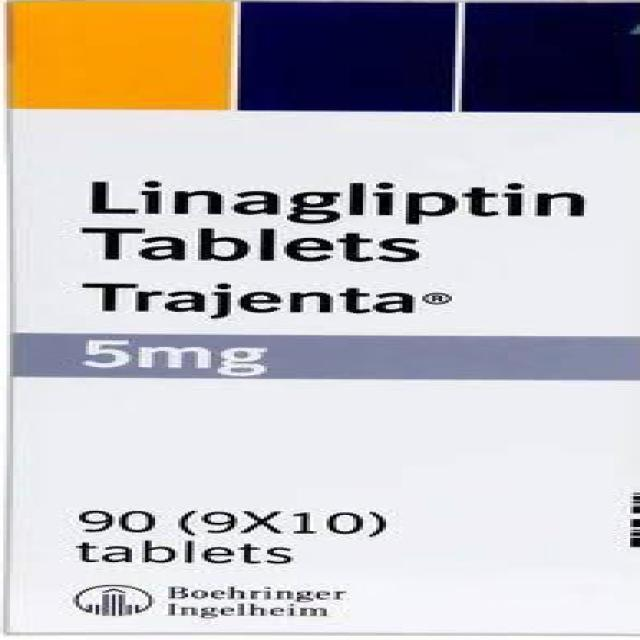drug-name: (80, 278, 418, 322)
